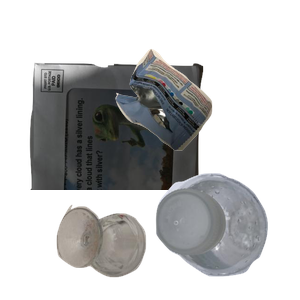glass: (54, 202, 193, 300)
paper: (27, 60, 223, 240)
plastic: (153, 170, 300, 300)
trash: (113, 46, 300, 189)
